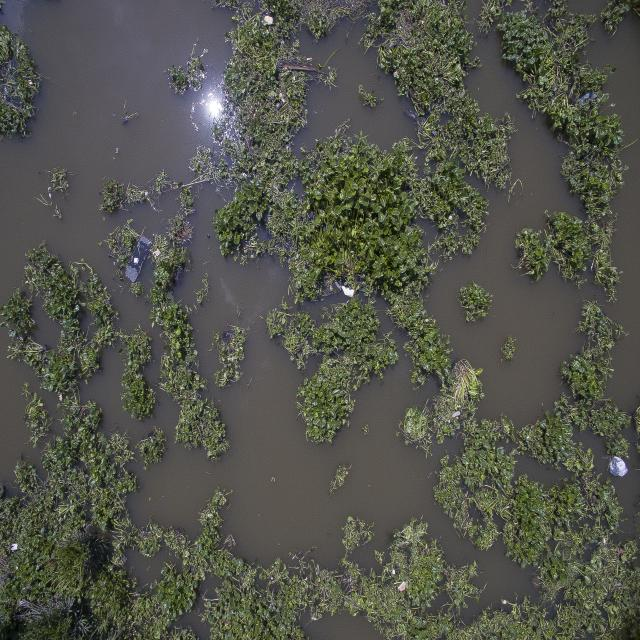plastic: (122, 236, 151, 282), (573, 82, 603, 116), (608, 449, 630, 486), (336, 280, 360, 302), (260, 12, 280, 30), (396, 578, 412, 596)
